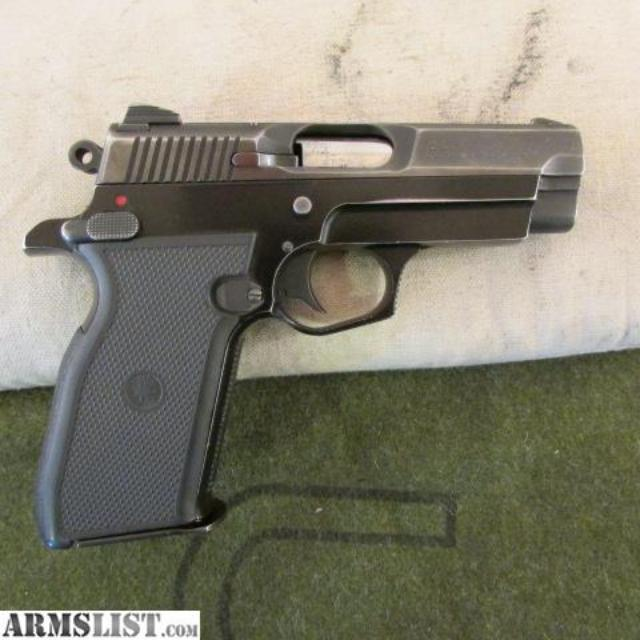handgun: (14, 92, 594, 556)
